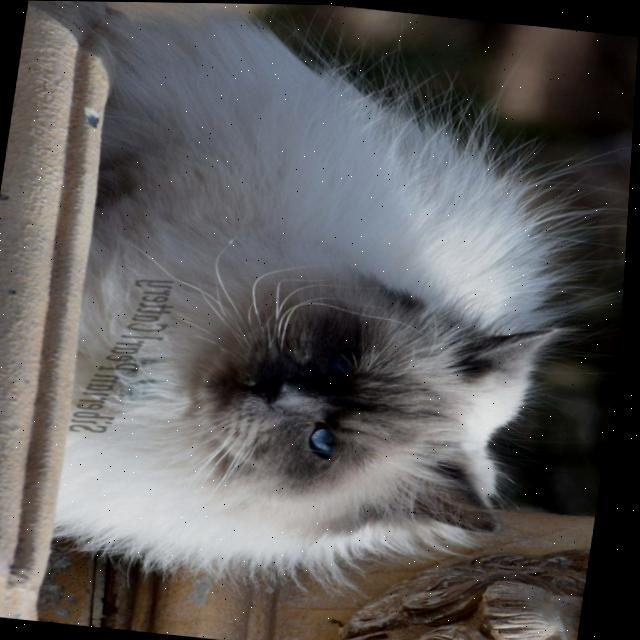Neva Masquerade: (48, 3, 627, 611)
